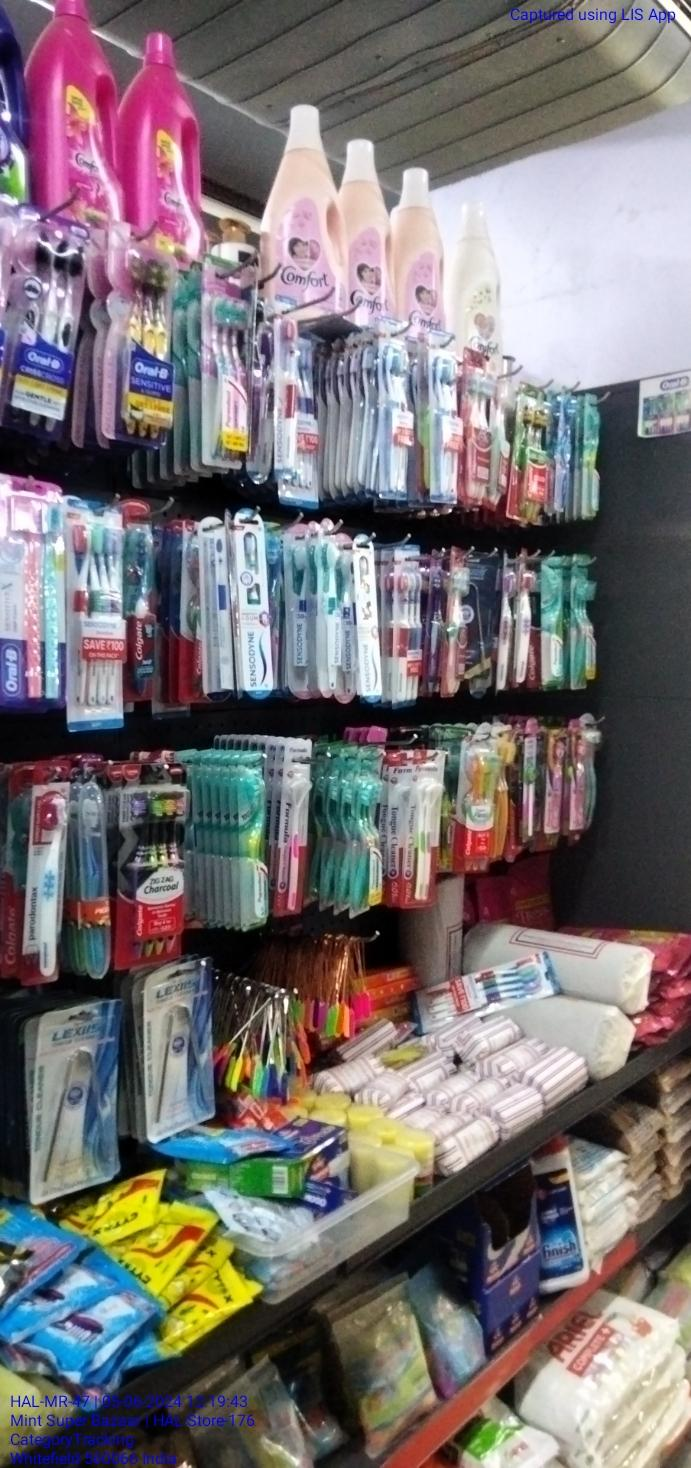12: (199, 261, 244, 467)
14: (65, 497, 122, 729)
8: (390, 555, 422, 705)
liquid soap: (116, 775, 185, 962)
